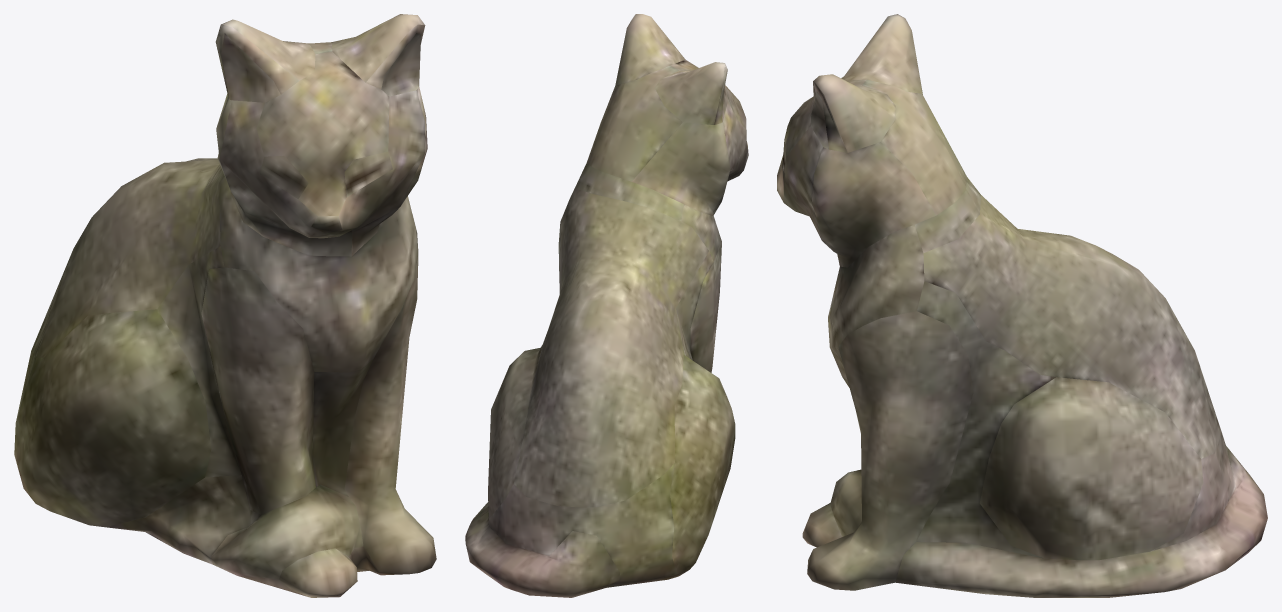
File: statue_cat.glb
3 views of the same model, side by side, from view 1: azimuth 30°, elevation 25°; view 2: azimuth 150°, elevation 25°; view 3: azimuth 270°, elevation 25° (orthographic). The views are drawn at different scales.
Visible parts, largest first — view 1: statue_cat; view 2: statue_cat; view 3: statue_cat.
Part boxes in pixels (bbox=[...]): statue_cat: bbox=[14, 14, 436, 597]; statue_cat: bbox=[465, 14, 748, 597]; statue_cat: bbox=[777, 14, 1267, 597].
Bounding box in the file's own units: 0.1517 × 0.283 × 0.2493.
Materials: 1 (1 with a texture image).
